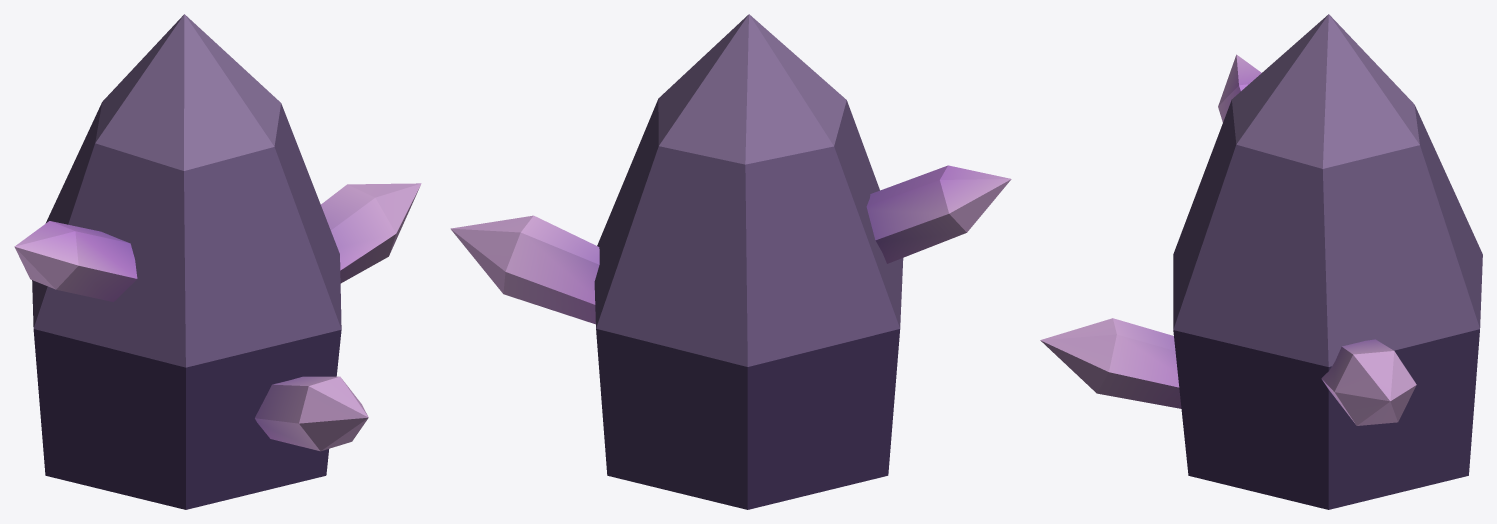
The model's file is Rocks_Ore_Twilight.glb.
3 views of the same model, side by side, from view 1: azimuth 30°, elevation 25°; view 2: azimuth 150°, elevation 25°; view 3: azimuth 270°, elevation 25° (orthographic).
Visible parts, largest first — view 1: TwilightOre; view 2: TwilightOre; view 3: TwilightOre.
Boxes of the visible parts, x1,y1,x2,y2 form: TwilightOre: (14,14,421,509); TwilightOre: (450,14,1011,509); TwilightOre: (1040,14,1482,509).
Bounding box in the file's own units: 1.9 × 1.6 × 1.5.
